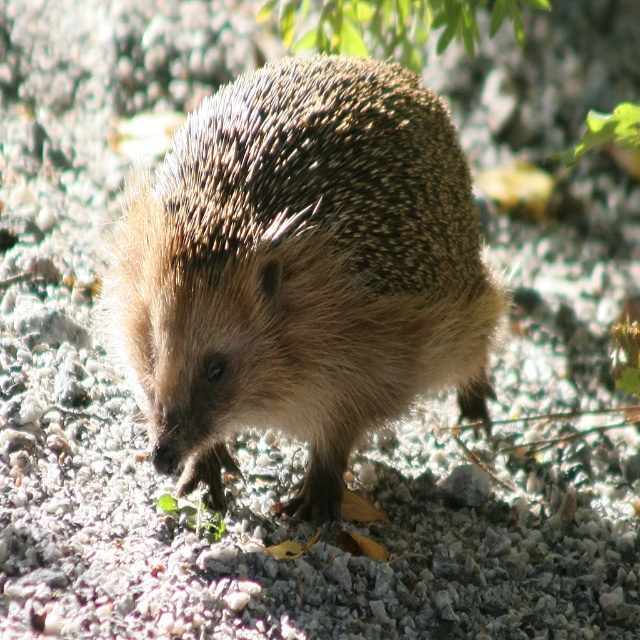Hedgehog: (91, 44, 512, 531)
